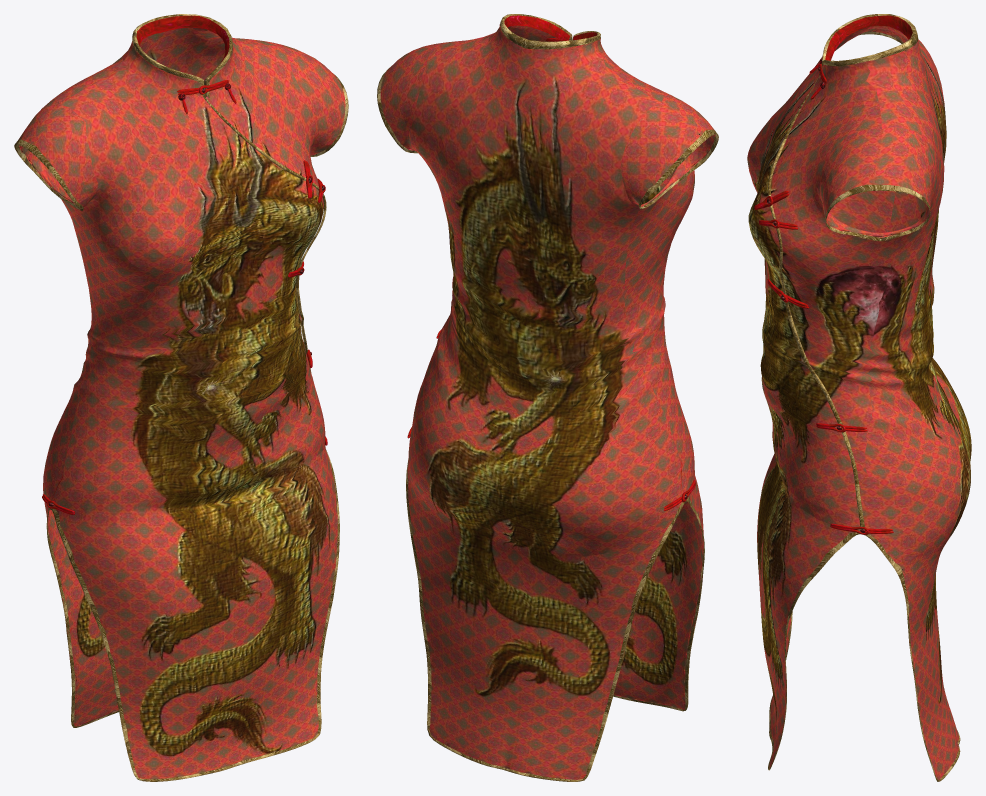
Rendered from elvs-fashion-stylized-qipoa.glb.
3 views of the same model, side by side, from view 1: azimuth 30°, elevation 25°; view 2: azimuth 150°, elevation 25°; view 3: azimuth 270°, elevation 25° (orthographic).
Visible parts, largest first — view 1: fashion stylized qipoa; view 2: fashion stylized qipoa; view 3: fashion stylized qipoa.
Boxes of the visible parts, left/top/right/bottom form: fashion stylized qipoa: left=14, top=14, right=348, bottom=781; fashion stylized qipoa: left=377, top=14, right=718, bottom=781; fashion stylized qipoa: left=747, top=14, right=971, bottom=781.
Bounding box in the file's own units: 44.41 × 96.73 × 27.49.
1 material, 1 textured.
